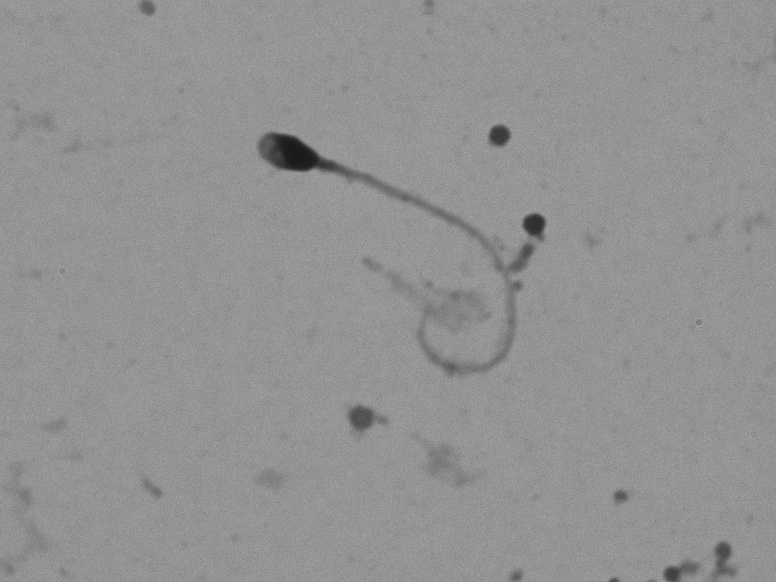Abnormal: (236, 112, 519, 403)
